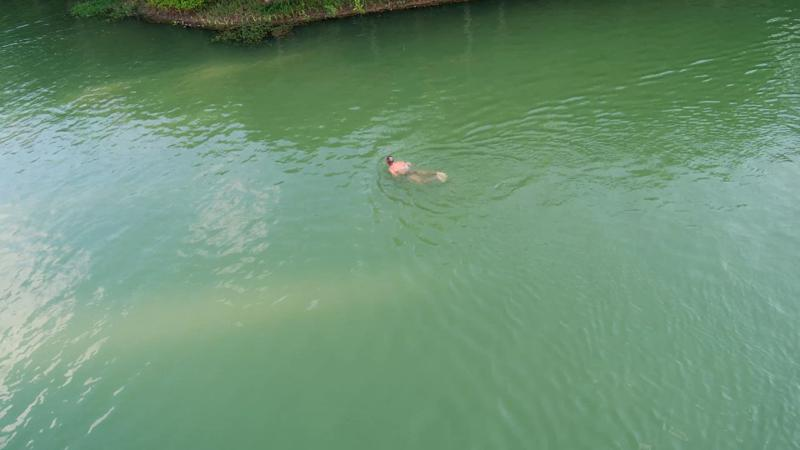swimmers: (384, 152, 449, 186)
